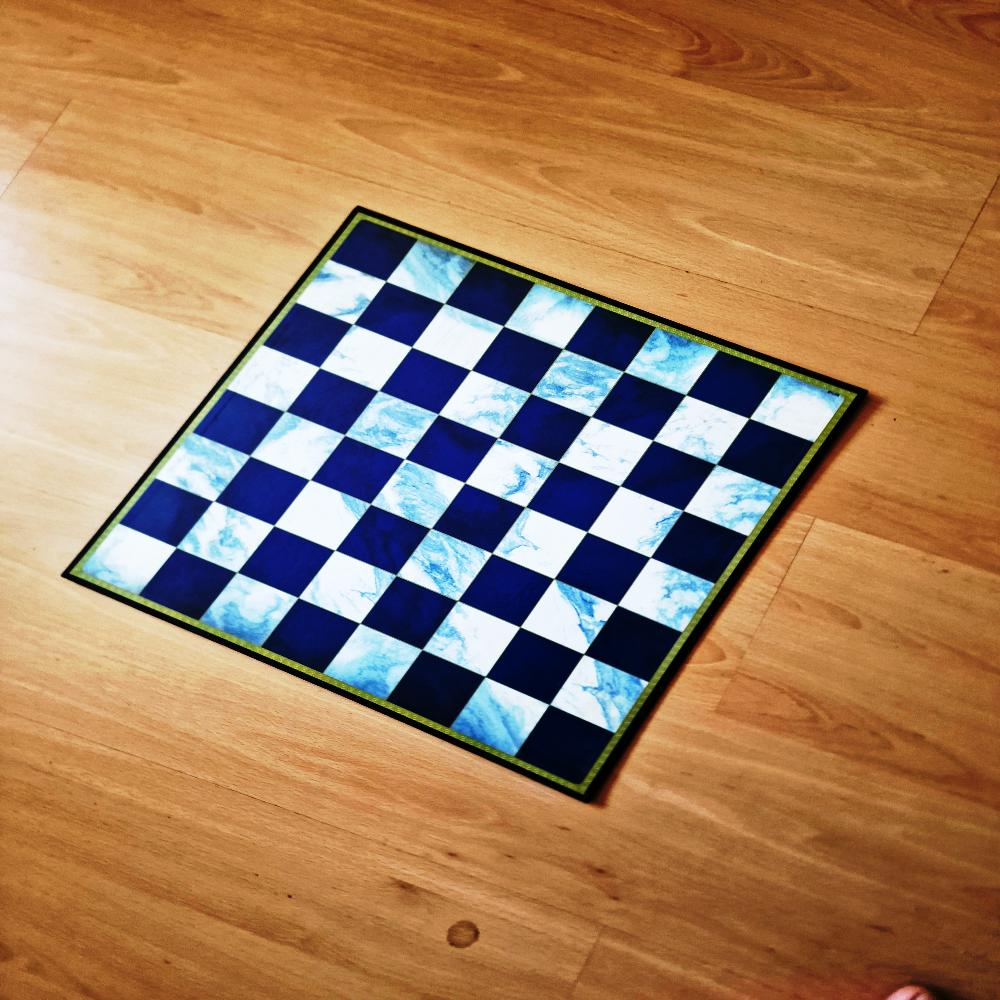chessfield: (618, 560, 718, 640), (66, 525, 176, 597), (453, 678, 554, 756), (749, 376, 853, 451), (548, 657, 648, 735), (516, 706, 611, 787), (320, 627, 421, 702), (201, 574, 301, 649), (684, 465, 783, 540), (520, 578, 620, 652), (421, 606, 520, 680), (489, 630, 585, 706), (585, 609, 680, 685), (389, 655, 484, 730), (588, 486, 684, 560), (300, 551, 397, 624), (495, 511, 590, 584), (559, 416, 655, 488), (265, 599, 361, 671), (155, 432, 252, 503), (249, 412, 346, 483), (656, 396, 752, 467), (179, 506, 275, 577), (225, 345, 322, 415), (276, 480, 370, 552), (400, 530, 494, 602), (654, 514, 748, 586), (556, 533, 651, 604), (460, 557, 553, 629), (720, 419, 813, 490), (374, 461, 467, 532), (626, 329, 720, 399), (506, 284, 600, 354), (466, 441, 558, 512), (346, 393, 439, 463), (140, 549, 234, 618), (442, 369, 533, 440), (531, 350, 623, 420), (245, 530, 338, 599), (622, 444, 716, 512), (215, 457, 308, 525), (366, 577, 457, 646), (435, 484, 526, 553), (322, 324, 414, 392), (413, 304, 503, 373), (387, 239, 479, 306), (595, 373, 688, 439), (336, 510, 426, 578), (312, 436, 402, 504), (406, 416, 497, 483), (528, 465, 618, 532), (193, 392, 284, 458), (119, 485, 208, 552), (381, 350, 471, 416), (298, 265, 388, 331), (328, 218, 418, 284), (290, 368, 378, 435), (354, 284, 443, 350), (503, 397, 592, 463), (689, 353, 779, 418), (472, 330, 562, 394), (567, 307, 654, 372), (448, 262, 535, 326), (266, 306, 353, 368)
